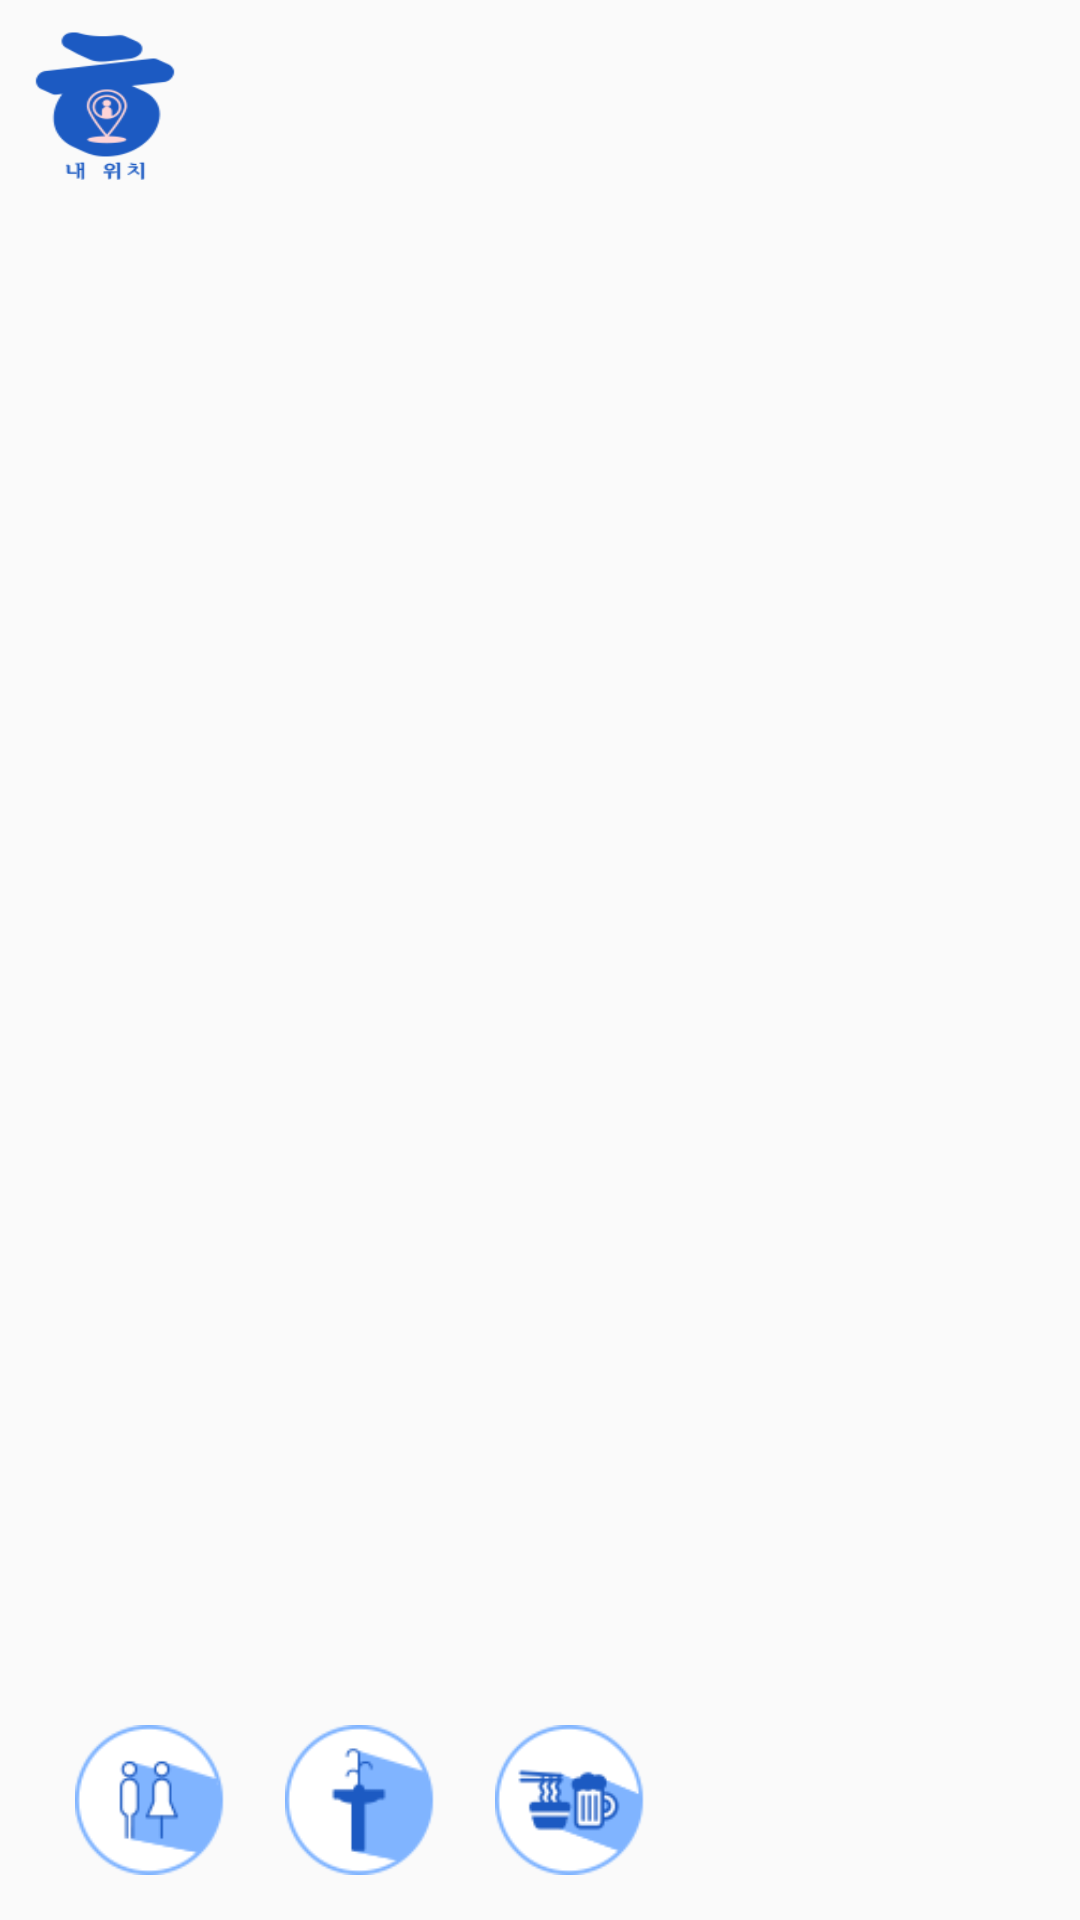

Icon bounding boxes for this 1080px×1920px phone screenshot, format bbox(x1, y1, x2, y2):
drink unpressed: bbox(285, 1725, 433, 1875)
market unpressed: bbox(495, 1725, 644, 1875)
toilet unpressed: bbox(75, 1725, 224, 1875)
